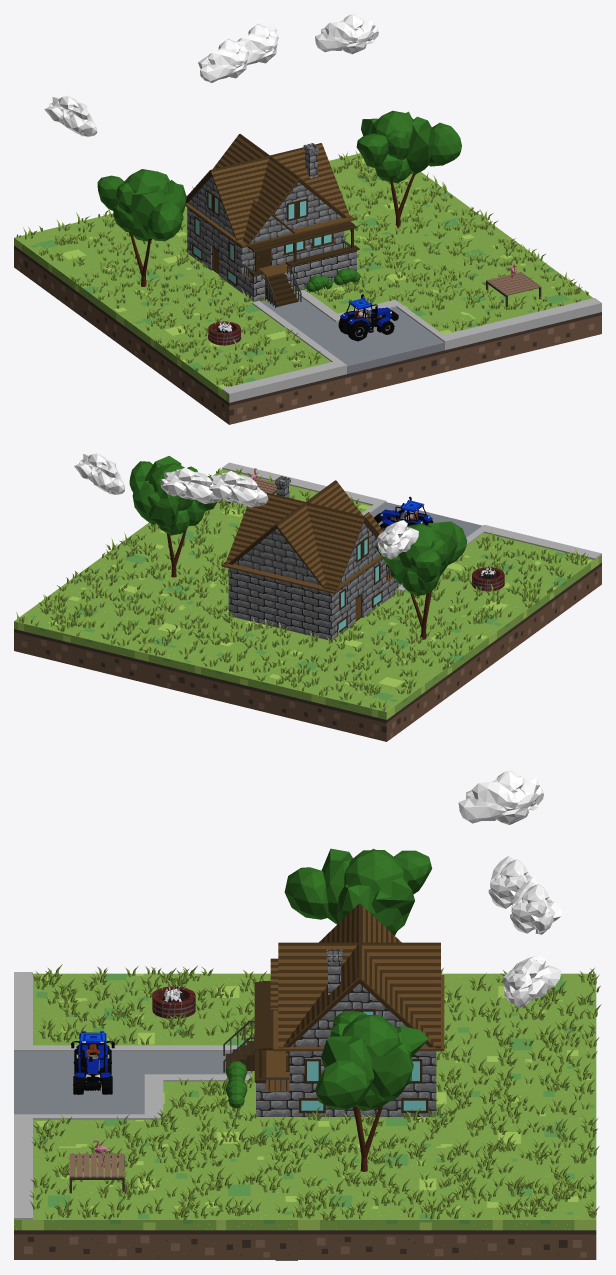
3 views of the same model, one above another, from view 1: azimuth 30°, elevation 25°; view 2: azimuth 150°, elevation 25°; view 3: azimuth 270°, elevation 25° (orthographic). The views are drawn at different scales.
Parts seen in each view (by area): view 1: Cube.006, Cube.586, Circle.012_Grass_0.192, Cube.007, tree, tree.001, VEHICLES_TRACTOR, Cube.009, OBJRANDOM_CAMPFIRE; view 2: Cube.006, Cube.586, Circle.012_Grass_0.192, Cube.007, tree.001, tree, VEHICLES_TRACTOR, OBJRANDOM_CAMPFIRE; view 3: Cube.006, Circle.012_Grass_0.192, Cube.586, tree, Cube.007, tree.001, VEHICLES_TRACTOR, Cube.009, OBJRANDOM_CAMPFIRE.
Boxes of the visible parts, x1,y1,x2,y2 form: Cube.006: (14,153,601,424); Cube.586: (185,134,359,307); Circle.012_Grass_0.192: (16,150,588,386); Cube.007: (44,14,378,136); tree: (356,110,461,228); tree.001: (97,169,186,286); VEHICLES_TRACTOR: (338,294,398,341); Cube.009: (486,272,541,306); OBJRANDOM_CAMPFIRE: (208,319,241,345); Cube.006: (14,462,601,741); Cube.586: (221,476,398,640); Circle.012_Grass_0.192: (16,468,588,711); Cube.007: (74,453,418,559); tree.001: (375,521,467,639); tree: (129,456,216,577); VEHICLES_TRACTOR: (374,496,433,530); OBJRANDOM_CAMPFIRE: (472,567,504,591); Cube.006: (14,972,596,1259); Circle.012_Grass_0.192: (29,964,601,1221); Cube.586: (223,904,444,1116); tree: (315,1010,428,1171); Cube.007: (458,770,561,1007); tree.001: (284,848,432,935); VEHICLES_TRACTOR: (71,1031,114,1094); Cube.009: (69,1153,124,1193); OBJRANDOM_CAMPFIRE: (152,984,195,1018).
Bounding box in the file's own units: 4071 × 2184 × 4040.
31 materials, 4 textured.
